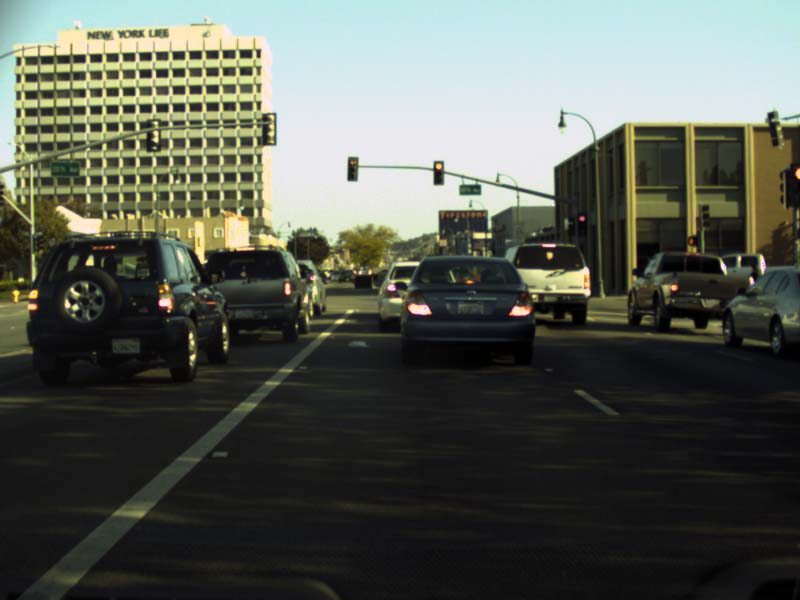Red: (347, 156, 357, 180), (433, 160, 443, 184), (577, 213, 586, 235)
